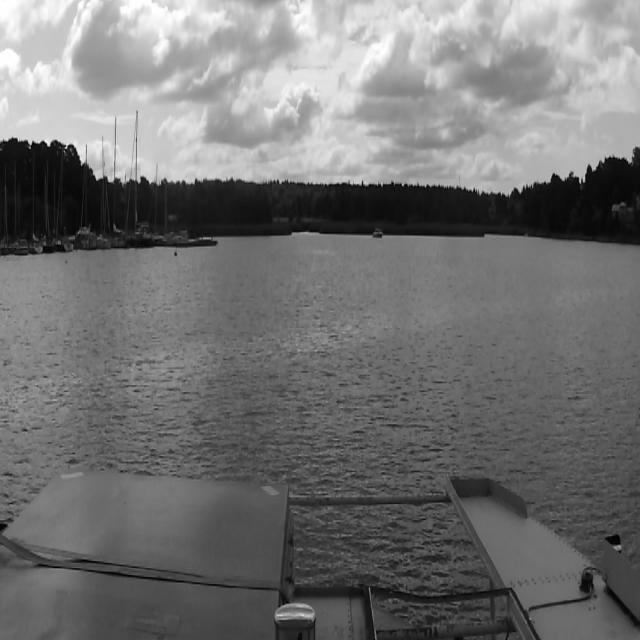ship: (125, 113, 155, 251), (157, 156, 185, 250), (77, 143, 99, 253), (51, 147, 73, 250), (10, 162, 30, 253), (33, 158, 47, 254), (0, 163, 10, 256), (372, 227, 382, 238)
